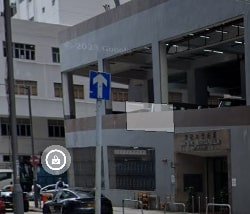One Way Traffic: (87, 67, 111, 103)
